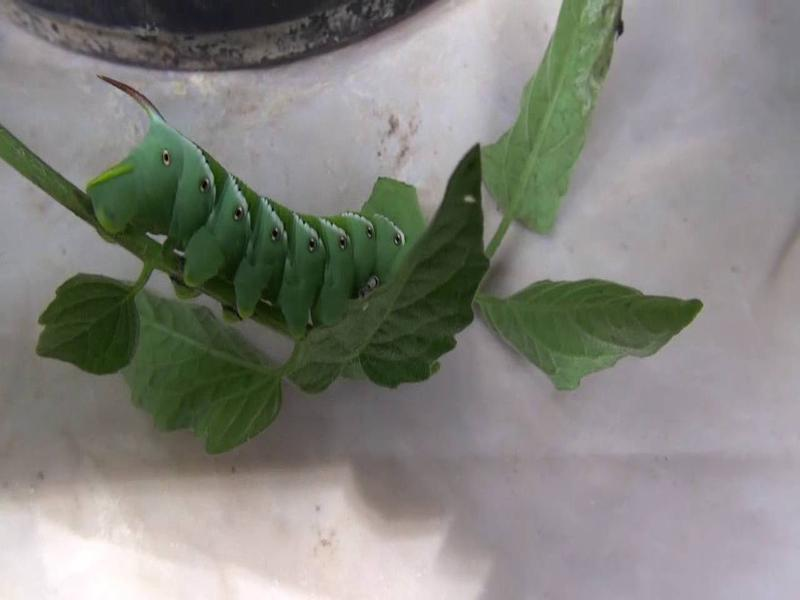Rice_horned_caterpillar: (72, 103, 425, 342)
